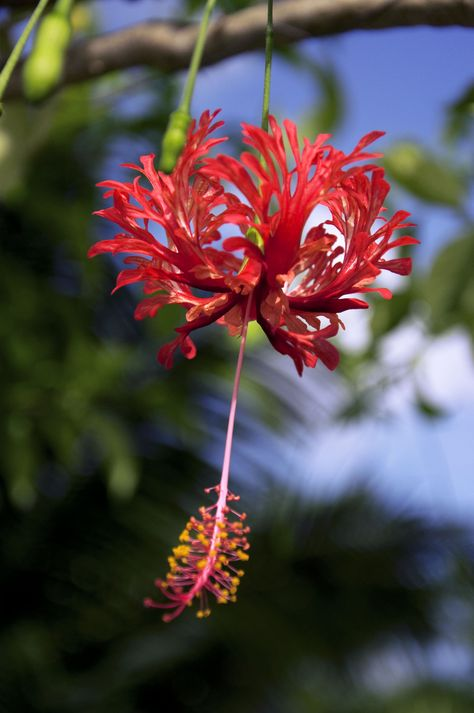Hibiscus: (100, 110, 418, 627), (18, 3, 77, 94)
